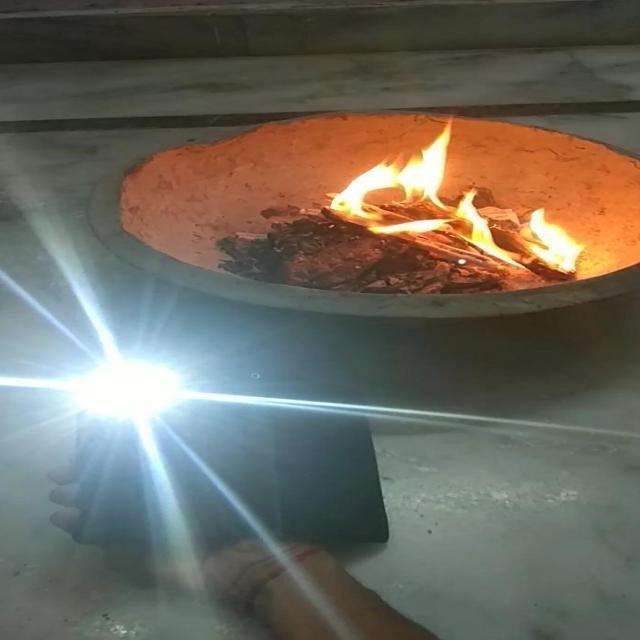smoke: (332, 120, 455, 234), (454, 186, 516, 264), (522, 204, 587, 273)
